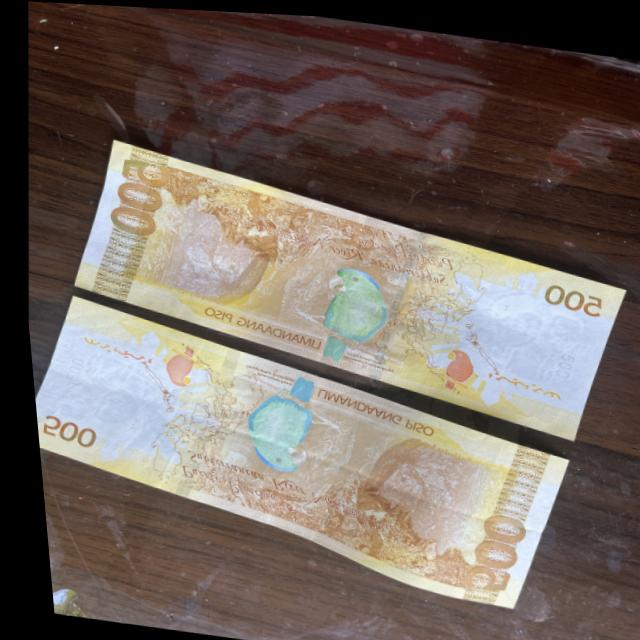500_big_parrot: (299, 255, 392, 366), (232, 368, 325, 476)
500_parrot_watermark: (415, 339, 474, 389), (154, 343, 202, 389)
value_watermark: (540, 341, 575, 373), (50, 353, 84, 385)
watermark: (474, 287, 590, 375), (45, 353, 156, 440)
